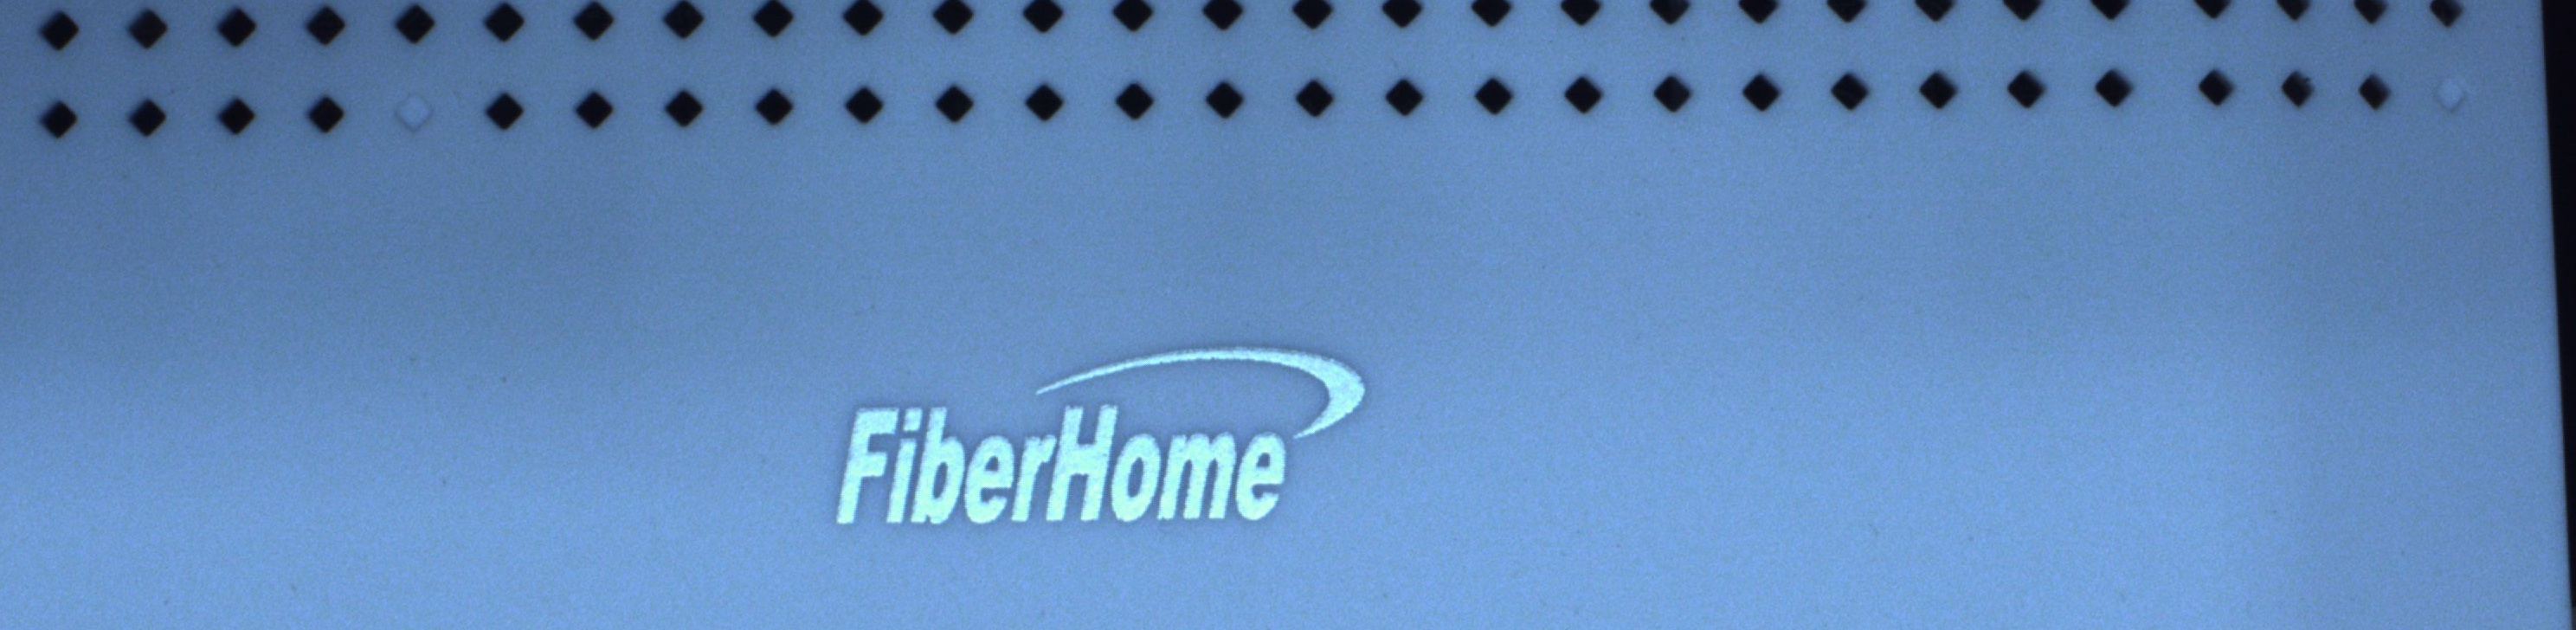AI_FiberHome: (800, 323, 1377, 550)
